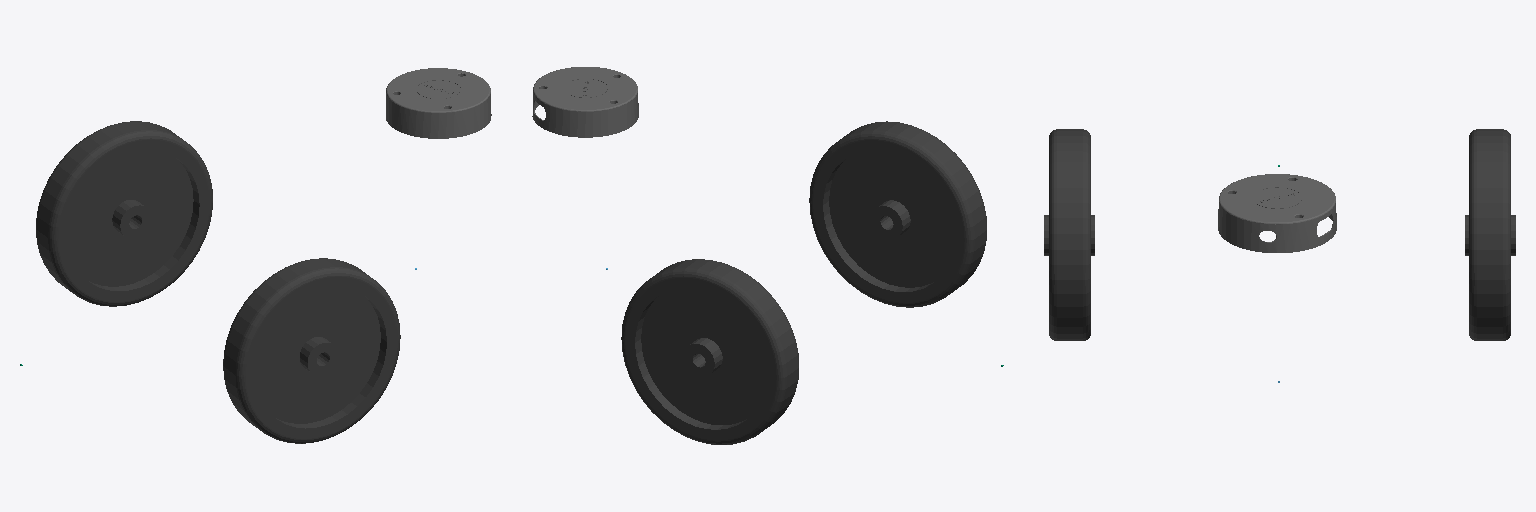
robot.urdf — pegasus_mini:
<?xml version="1.0" encoding="utf-8"?>
<robot
  name="pegasus_mini">
  <link
    name="base_link">
    <inertial>
      <origin
        xyz="-0.00135257407513238 0.00100384888904426 0.0291653156426118"
        rpy="0 0 0" />
      <mass
        value="3.10942485851605" />
      <inertia
        ixx="0.009967506563368"
        ixy="-1.75362440797118E-07"
        ixz="3.30883914944428E-06"
        iyy="0.0193424468245618"
        iyz="-4.83041311800311E-07"
        izz="0.0266448037820947" />
    </inertial>
    <visual>
      <origin
        xyz="0 0 0"
        rpy="0 0 0" />
      <geometry>
        <mesh
          filename="package://pegasus_base/meshes/base_link.dae" />
      </geometry>
      <material
        name="">
        <color
          rgba="0.792156862745098 0.819607843137255 0.933333333333333 1" />
      </material>
    </visual>
    <collision>
      <origin
        xyz="0 0 0.03125"
        rpy="1.5707 0 0" />
      <geometry>
              <box size="0.45 0.12 0.34"/>

      </geometry>
    </collision>
  </link>
  <link name="frontcastor">
   
  <visual>
    <origin 
      xyz="0.15 0 -0.025"
      rpy="1.57 0 0"/>

    <geometry>
      <box size="0.001 0.001 0.001"/>
    </geometry>

  </visual>

  <collision>
    <origin 
      xyz="0.15 0 -0.024"
      rpy="1.57 0 0"/>

    <geometry>
      <cylinder length="0.02" radius="0.0375"/>
    </geometry>
  </collision>

</link>


<joint
    name="frontcastor_joint"
    type="fixed">
    <origin
      xyz="0 0 0"
      rpy="0 0 0" />
    <parent
      link="base_link" />
    <child
      link="frontcastor" />
    <axis
      xyz="0 1 0" />
</joint>
  


<link name="backcastor">
   
    <visual>
      <origin 
      xyz="-0.15 0 -0.025"
      rpy="1.5707 0 0"/>

     <geometry>

      <box size="0.001 0.001 0.001"/>

      </geometry>
    </visual>
  
  <collision>
      <origin 
      xyz="-0.15 0 -0.024"
      rpy="1.5707 0 0"/>

      <geometry>

        <cylinder length="0.02" radius="0.0375"/>
      </geometry>
  </collision> 


  </link>
<joint
    name="backcastor_joint"
    type="fixed">
    <origin
      xyz="0 0 0"
      rpy="0 0 0" />
    <parent
      link="base_link" />
    <child
      link="backcastor" />
    <axis
      xyz="0 1 0" />
  </joint>
  <link
    name="leftwheel_link">
    <inertial>
      <origin
        xyz="-5.72225387474662E-15 5.64825963778048E-15 -1.06852380645045E-16"
        rpy="0 0 0" />
      <mass
        value="0.232013920708616" />
      <inertia
        ixx="0.000277320036972709"
        ixy="-1.20216774398711E-17"
        ixz="-1.01007354824876E-32"
        iyy="0.000538249657591165"
        iyz="1.19367335965887E-19"
        izz="0.000277320036972708" />
    </inertial>
    <visual>
      <origin
        xyz="0 0 0"
        rpy="1.5707 0 0" />
      <geometry>
        <mesh
          filename="package://pegasus_base/meshes/leftwheel_link.dae" />
      </geometry>
      <material
        name="">
        <color
          rgba="0.298039215686275 0.298039215686275 0.298039215686275 1" />
      </material>
    </visual>
    <collision>
      <origin
        xyz="0 0 0"
        rpy="1.5707 0 0" />
      <geometry>
        <cylinder length="0.02" radius="0.0625"/>

      </geometry>
    </collision>
  </link>
     
  <joint
    name="leftwheel_joint"
    type="continuous">
    <origin
      xyz="0 0.124 0"
      rpy="0 0 0" />
    <parent
      link="base_link" />
    <child
      link="leftwheel_link" />
    <axis
      xyz="0 1 0" />
  </joint>
     
  <link
    name="rightwheel_link">
    <inertial>
      <origin
        xyz="-2.29870205968863E-18 5.20417042793042E-15 1.60744195424908E-16"
        rpy="0 0 0" />
      <mass
        value="0.232013920708616" />
      <inertia
        ixx="0.000277320036972709"
        ixy="-3.80177089528946E-20"
        ixz="5.2352935655391E-36"
        iyy="0.000538249657591166"
        iyz="4.45769783655849E-20"
        izz="0.000277320036972709" />
    </inertial>
    <visual>
      <origin
        xyz="0 0 0"
        rpy="1.5707 0 0" />
      <geometry>
        <mesh
          filename="package://pegasus_base/meshes/rightwheel_link.dae" />
      </geometry>
      <material
        name="">
        <color
          rgba="0.298039215686275 0.298039215686275 0.298039215686275 1" />
      </material>
    </visual>
    <collision>
      <origin
        xyz="0 0 0"
        rpy="1.5707 0 0" />
      <geometry>
            <cylinder length="0.02" radius="0.0625"/>
      </geometry>
    </collision>
  </link>
     
  <joint
    name="rightwheel_joint"
    type="continuous">
    <origin
      xyz="0 -0.123 0"
      rpy="0 0 0" />
    <parent
      link="base_link" />
    <child
      link="rightwheel_link" />
    <axis
      xyz="0 1 0" />
  </joint>
     
  <link
    name="laser">
    <inertial>
      <origin
        xyz="0.166389887141163 0.121618364229734 0.0967069926939433"
        rpy="0 0 0" />
      <mass
        value="0.00676512405731958" />
      <inertia
        ixx="3.01336664603449E-06"
        ixy="-2.44109847691184E-08"
        ixz="-2.10743854970194E-08"
        iyy="3.11861951022779E-06"
        iyz="-1.45111080099309E-08"
        izz="5.59775679030702E-06" />
    </inertial>
    <visual>
      <origin
        xyz="0 0 0"
        rpy="-1.5707 0 -1.1" />
      <geometry>
        <mesh
          filename="package://pegasus_base/meshes/lidar.dae" />
      </geometry>
      <material
        name="">
        <color
          rgba="0.43921568627451 0.43921568627451 0.43921568627451 1" />
      </material>
    </visual>
    <collision>
      <origin
        xyz="0 0 0"
        rpy="0 0 0" />
      <geometry>
         <cylinder length="0.025" radius="0.035"/>

      </geometry>
    </collision>
  </link>
     
  <joint
    name="laser_joint"
    type="fixed">
    <origin
      xyz="0.16688 -0.001 0.1019"
      rpy="0 0 3.1415" /> <!-- Rotate Laser Frame about 180 about z to match RPLidar defualt laser frame -->
    <parent
      link="base_link" />
    <child
      link="laser" />
    <axis
      xyz="0 0 0" />
  </joint>
       <gazebo reference="laser">
    <sensor type="gpu_ray" name="head_hokuyo_sensor">
      <pose>0 0 0 0 0 0</pose>
      <visualize>true</visualize>
      <update_rate>20</update_rate>
      <ray>
        <scan>
          <horizontal>
            <samples>720</samples>
            <resolution>1</resolution>
            <min_angle>-3.1467</min_angle>
            <max_angle>3.1467</max_angle>
          </horizontal>
        </scan>
        <range>
          <min>0.10</min>
          <max>12.0</max>
          <resolution>0.01</resolution>
        </range>
        <noise>
          <type>gaussian</type>
          <mean>0.0</mean>
          <stddev>0.01</stddev>
        </noise>
      </ray>
      <plugin name="gazebo_ros_head_hokuyo_controller" filename="libgazebo_ros_gpu_laser.so">
        <topicName>/scan</topicName>
        <frameName>laser</frameName>
      </plugin>
    </sensor>
  </gazebo>
     
    <gazebo>
    <plugin filename="libgazebo_ros_diff_drive.so" name="differential_drive_controller_front">
      <rosDebugLevel>Debug</rosDebugLevel>
      <publishWheelTF>True</publishWheelTF>
      <publishTf>1</publishTf>
      <publishWheelJointState>true</publishWheelJointState>
      <alwaysOn>true</alwaysOn>
      <updateRate>100.0</updateRate>
      <leftJoint>leftwheel_joint</leftJoint>
      <rightJoint>rightwheel_joint</rightJoint>
      <wheelSeparation>0.390</wheelSeparation>
      <wheelDiameter>0.14393</wheelDiameter>
      <broadcastTF>1</broadcastTF>
      <wheelTorque>30</wheelTorque>
      <wheelAcceleration>1.8</wheelAcceleration>
      <commandTopic>cmd_vel</commandTopic>
      <odometryFrame>odom</odometryFrame>
      <odometryTopic>odom</odometryTopic>
      <robotBaseFrame>base_link</robotBaseFrame>
    </plugin>
  </gazebo>
</robot>

--- Render facts (derived) ---
Views: 3 orthographic renders of the robot side by side, from view 1: azimuth 30°, elevation 25°; view 2: azimuth 150°, elevation 25°; view 3: azimuth 270°, elevation 25°.
Model pegasus_mini with 6 links and 5 joints (2 continuous, 3 fixed), rooted at base_link, posed every joint at zero.
Links seen in each view (by area): view 1: leftwheel_link, rightwheel_link, laser; view 2: leftwheel_link, rightwheel_link, laser; view 3: leftwheel_link, rightwheel_link, laser.
Link boxes in pixels (bbox=[...]): leftwheel_link: bbox=[36, 121, 212, 306]; rightwheel_link: bbox=[223, 258, 400, 443]; laser: bbox=[386, 68, 491, 138]; leftwheel_link: bbox=[621, 259, 798, 444]; rightwheel_link: bbox=[809, 121, 986, 307]; laser: bbox=[532, 67, 638, 137]; leftwheel_link: bbox=[1465, 129, 1515, 340]; rightwheel_link: bbox=[1044, 129, 1094, 340]; laser: bbox=[1218, 174, 1336, 252].
Bounding box of the posed robot: 0.3524 × 0.277 × 0.1642 m (x, y, z).
Meshes: 4 distinct files referenced, 3 mesh visuals loaded (3 Collada DAE); not drawn: 1 (reference not matched to a file when rendering).